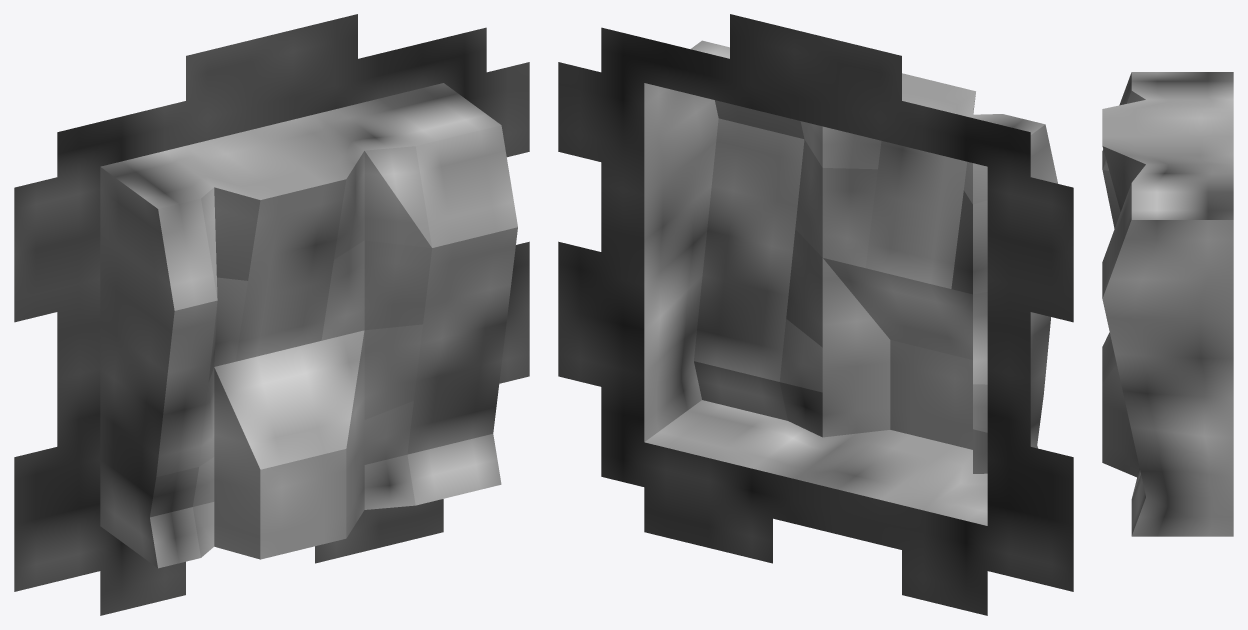
The model's file is tile_quartz.fbx.
The picture shows the model from 3 angles, left to right: view 1: azimuth 30°, elevation 25°; view 2: azimuth 150°, elevation 25°; view 3: azimuth 270°, elevation 25°; orthographic projection. The views are drawn at different scales.
Visible parts, largest first — view 1: tile_quartz; view 2: tile_quartz; view 3: tile_quartz.
Part boxes in pixels (x1,y1,x2,y2): tile_quartz: [14, 14, 529, 615]; tile_quartz: [558, 14, 1073, 615]; tile_quartz: [1102, 72, 1233, 536].
Bounding box in the file's own units: 0.375 × 1.5 × 1.5.
